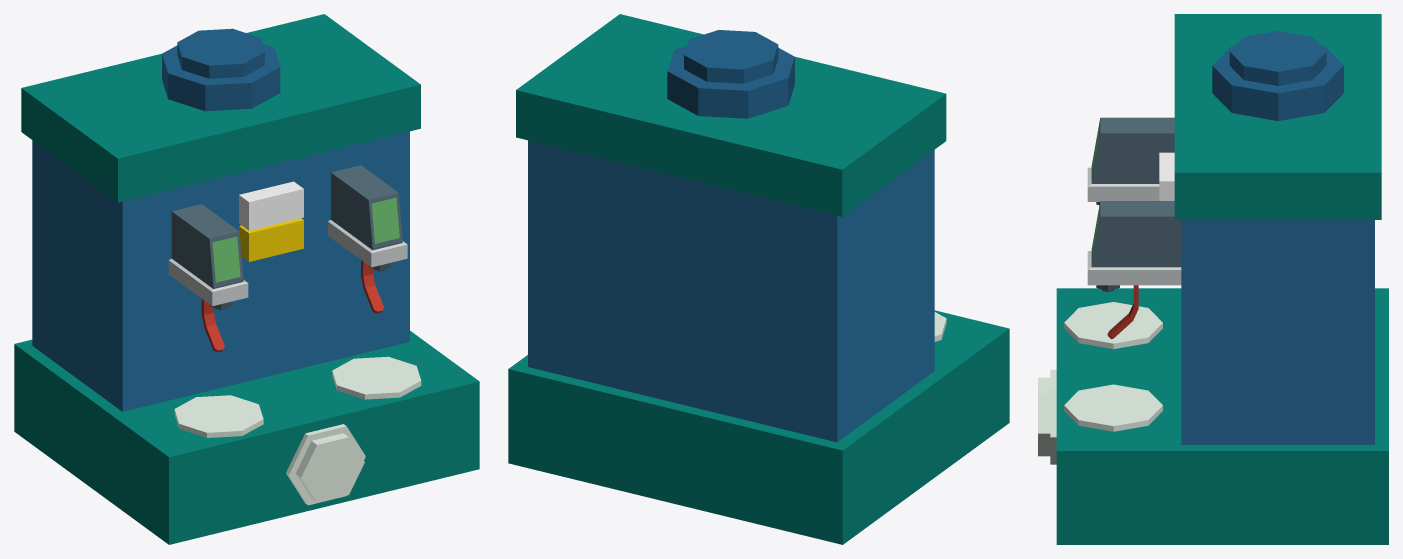
Rendered from Drink_Machine_2_lv2.fbx.
3 renders of one model, left to right at view 1: azimuth 30°, elevation 25°; view 2: azimuth 150°, elevation 25°; view 3: azimuth 270°, elevation 25°, orthographic. The views are drawn at different scales.
Parts seen in each view (by area): view 1: Drink_Machine_2_lv2; view 2: Drink_Machine_2_lv2; view 3: Drink_Machine_2_lv2.
Part boxes in pixels (bbox=[...]): Drink_Machine_2_lv2: bbox=[14, 14, 479, 544]; Drink_Machine_2_lv2: bbox=[508, 14, 1009, 544]; Drink_Machine_2_lv2: bbox=[1038, 14, 1388, 544].
Bounding box in the file's own units: 96.35 × 114 × 87.88.
